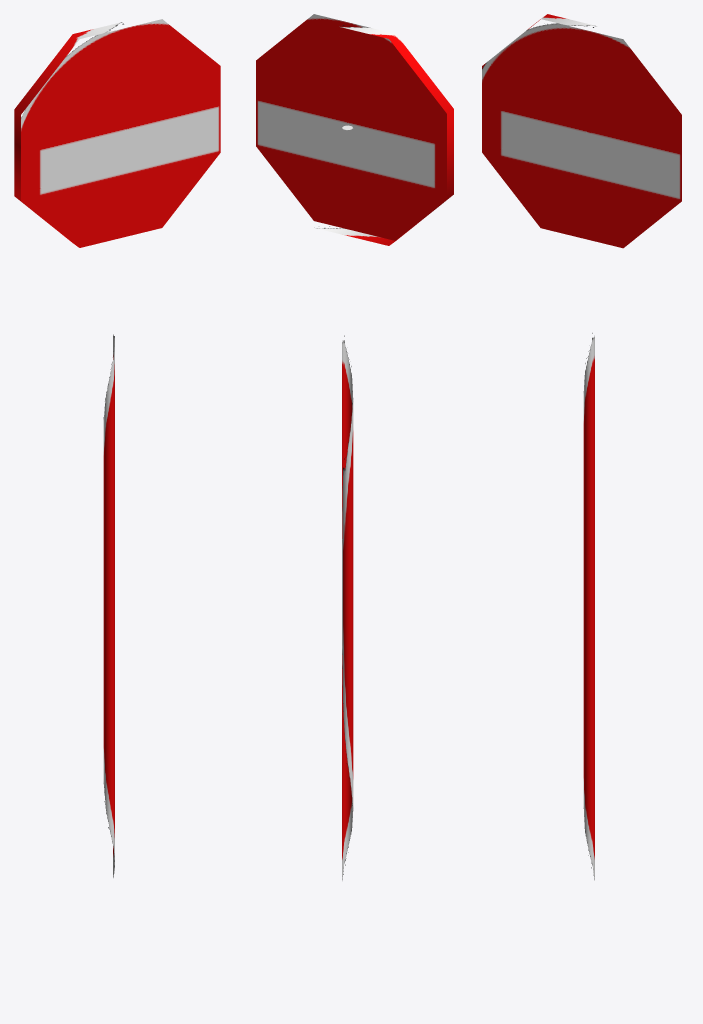
The model's file is aws_NoEntry_01_visual.DAE.
The picture shows the model from 3 angles, left to right: view 1: azimuth 30°, elevation 25°; view 2: azimuth 150°, elevation 25°; view 3: azimuth 330°, elevation 25°; orthographic projection.
Visible parts, largest first — view 1: aws_GuideBoard_01_visual; view 2: aws_GuideBoard_01_visual; view 3: aws_GuideBoard_01_visual.
Boxes of the visible parts, bbox=[...] form: aws_GuideBoard_01_visual: bbox=[14, 19, 220, 877]; aws_GuideBoard_01_visual: bbox=[256, 14, 453, 880]; aws_GuideBoard_01_visual: bbox=[482, 14, 681, 880].
Size of the model in its own units: 40.34 by 4.23 by 190.
1 material, 1 textured.
